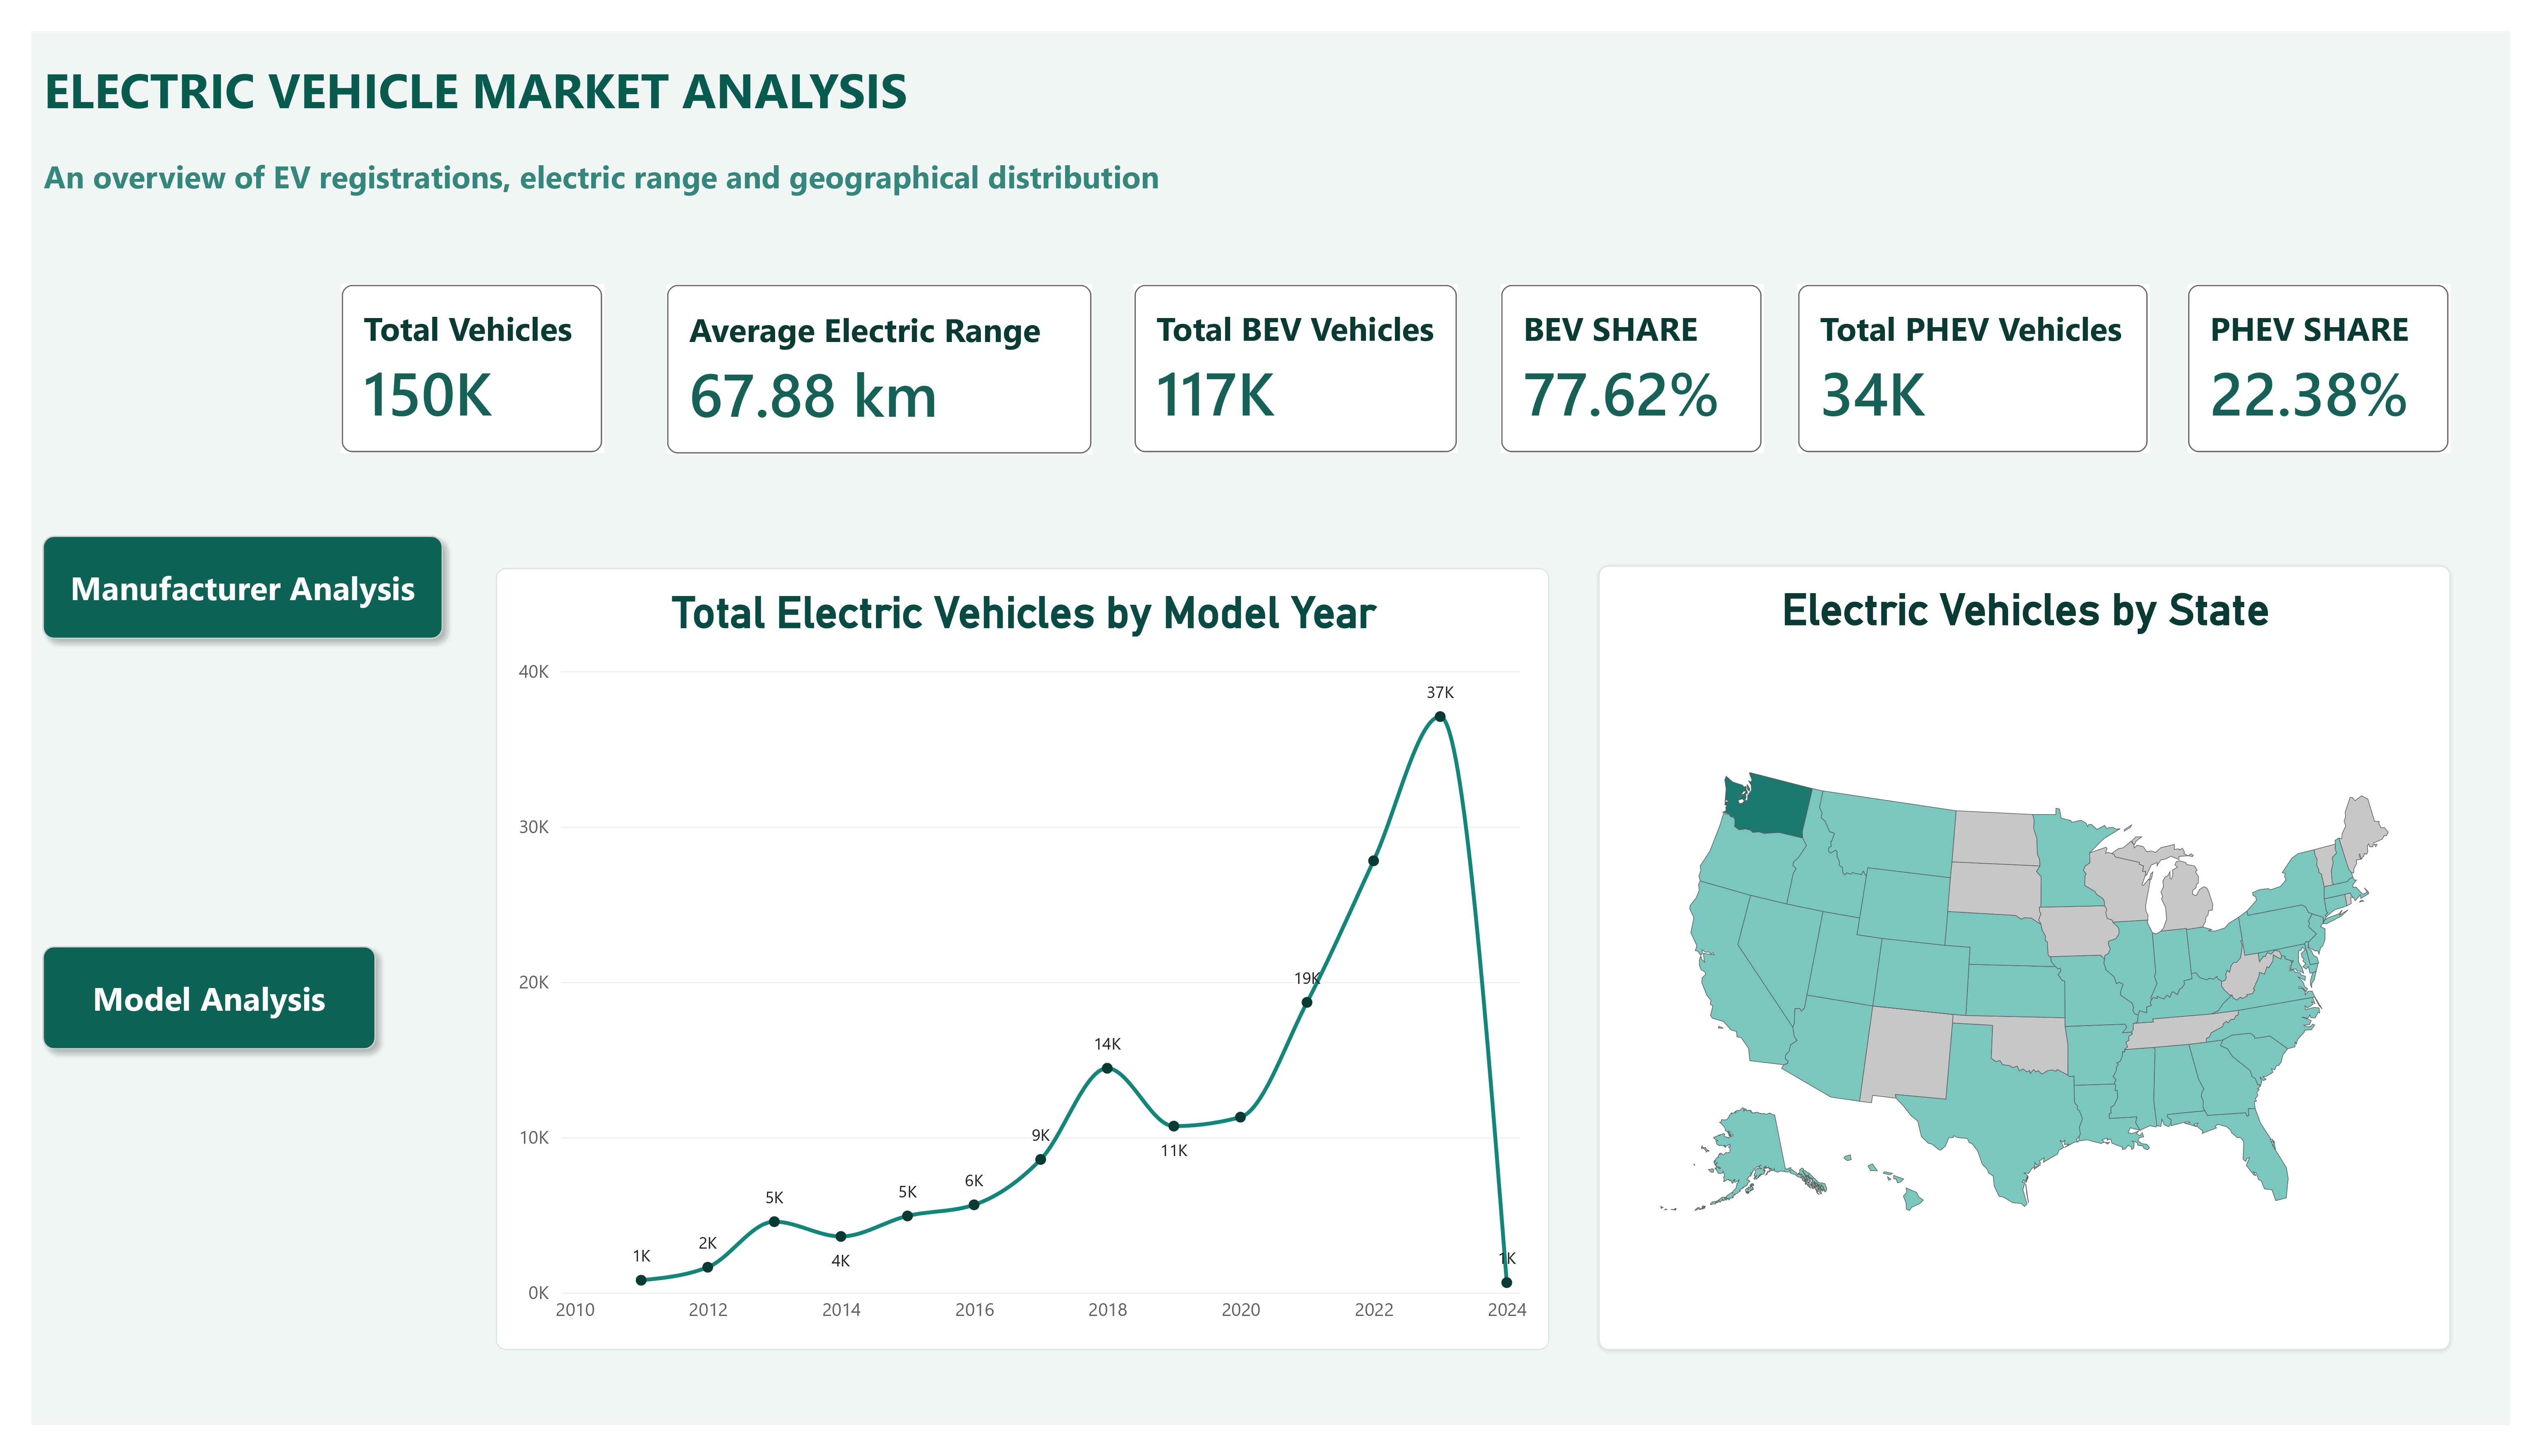

The dashboard page shown, as its layout file describes it:
{"tool":"powerbi","page":{"name":"EV Market Overview.","canvas":[1920,1080],"ordinal":0},"visuals":[{"type":"textbox","box":[10,20,701.9,57.6],"z":0},{"type":"textbox","box":[10,96,866.6,55.6],"z":1000},{"type":"cardVisual","fields":{"Data":["EV_Data.Total Vehicles"]},"box":[240,196,203.8,131.2],"z":2000},{"type":"cardVisual","fields":{"Data":["EV_Data.Average Electric Range Display"]},"box":[492,196,330,132],"z":3000},{"type":"cardVisual","fields":{"Data":["EV_Data.Total BEV Vehicles"]},"box":[854,196,251.2,131.2],"z":4000},{"type":"cardVisual","fields":{"Data":["EV_Data.BEV SHARE"]},"box":[1138,196,203.8,131.2],"z":5000},{"type":"cardVisual","fields":{"Data":["EV_Data.Total PHEV Vehicles"]},"box":[1368,196,272.5,131.2],"z":6000},{"type":"cardVisual","fields":{"Data":["EV_Data.PHEV SHARE"]},"box":[1670,196,203.8,131.2],"z":7000},{"type":"lineChart","title":"Total Electric Vehicles by Model Year","fields":{"Category":["EV_Data.Model Year"],"Y":["EV_Data.Total Vehicles"]},"box":[360,416,816,606],"z":8000},{"type":"shapeMap","title":"Electric Vehicles by State","fields":{"Category":["EV_Data.State"],"Value":["EV_Data.Total Vehicles"]},"box":[1214,414,660,608],"z":9000},{"type":"actionButton","box":[0,382,328,98],"z":10000},{"type":"actionButton","box":[0,700,276,98],"z":11000}]}

Visuals, with their boxes on the page's 1920x1080 design canvas (x1, y1, x2, y2). These are canvas units, not pixel positions in the 2541x1456 screenshot, which may show the page scaled, cropped or inside an application window:
textbox: region(10, 20, 712, 78)
textbox: region(10, 96, 877, 152)
cardVisual - EV_Data.Total Vehicles: region(240, 196, 444, 327)
cardVisual - EV_Data.Average Electric Range Display: region(492, 196, 822, 328)
cardVisual - EV_Data.Total BEV Vehicles: region(854, 196, 1105, 327)
cardVisual - EV_Data.BEV SHARE: region(1138, 196, 1342, 327)
cardVisual - EV_Data.Total PHEV Vehicles: region(1368, 196, 1640, 327)
cardVisual - EV_Data.PHEV SHARE: region(1670, 196, 1874, 327)
"Total Electric Vehicles by Model Year" lineChart: region(360, 416, 1176, 1022)
"Electric Vehicles by State" shapeMap: region(1214, 414, 1874, 1022)
actionButton: region(0, 382, 328, 480)
actionButton: region(0, 700, 276, 798)
